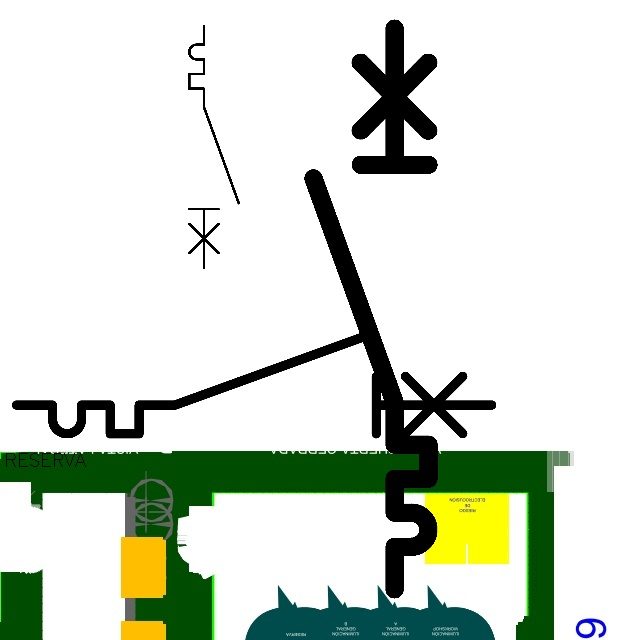interruptor_termomagnetico: (299, 14, 443, 604), (4, 324, 503, 446), (183, 20, 245, 274)
